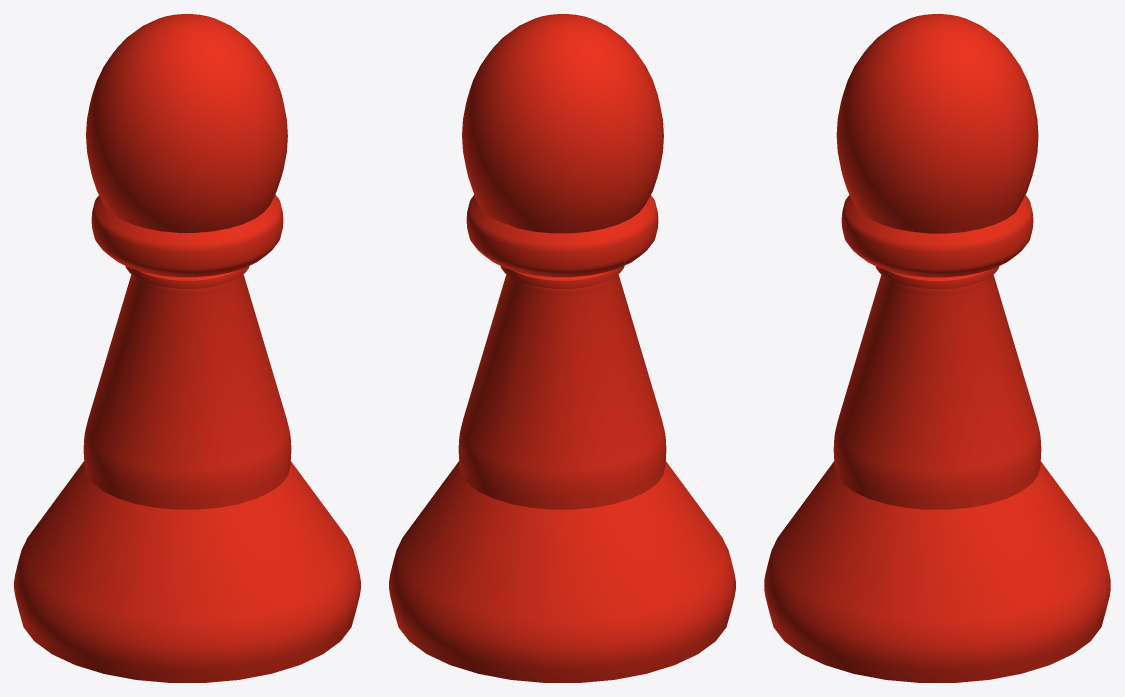
Rendered from red.glb.
3 views of the same model, side by side, from view 1: azimuth 30°, elevation 25°; view 2: azimuth 150°, elevation 25°; view 3: azimuth 270°, elevation 25° (orthographic).
Parts seen in each view (by area): view 1: red; view 2: red; view 3: red.
Part boxes in pixels (left/top/right/bottom): red: left=14, top=14, right=360, bottom=682; red: left=389, top=14, right=735, bottom=682; red: left=764, top=14, right=1110, bottom=682.
Size of the model in its own units: 0.0242 by 0.0458 by 0.0243.
